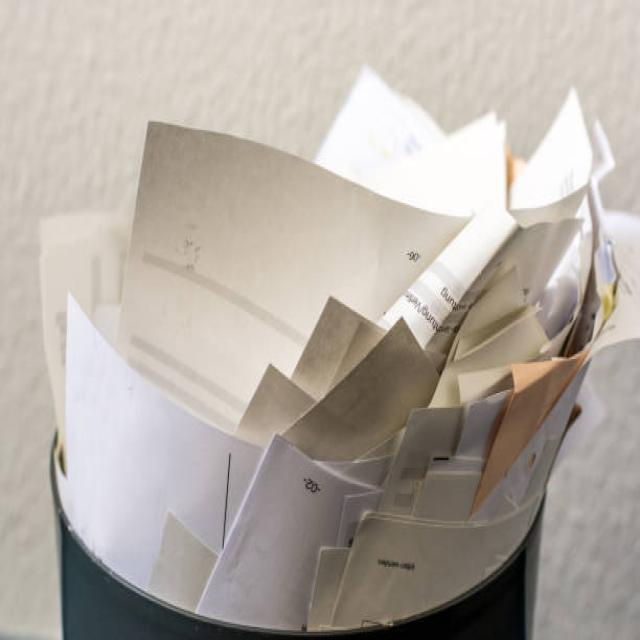paper: (199, 133, 596, 552)
